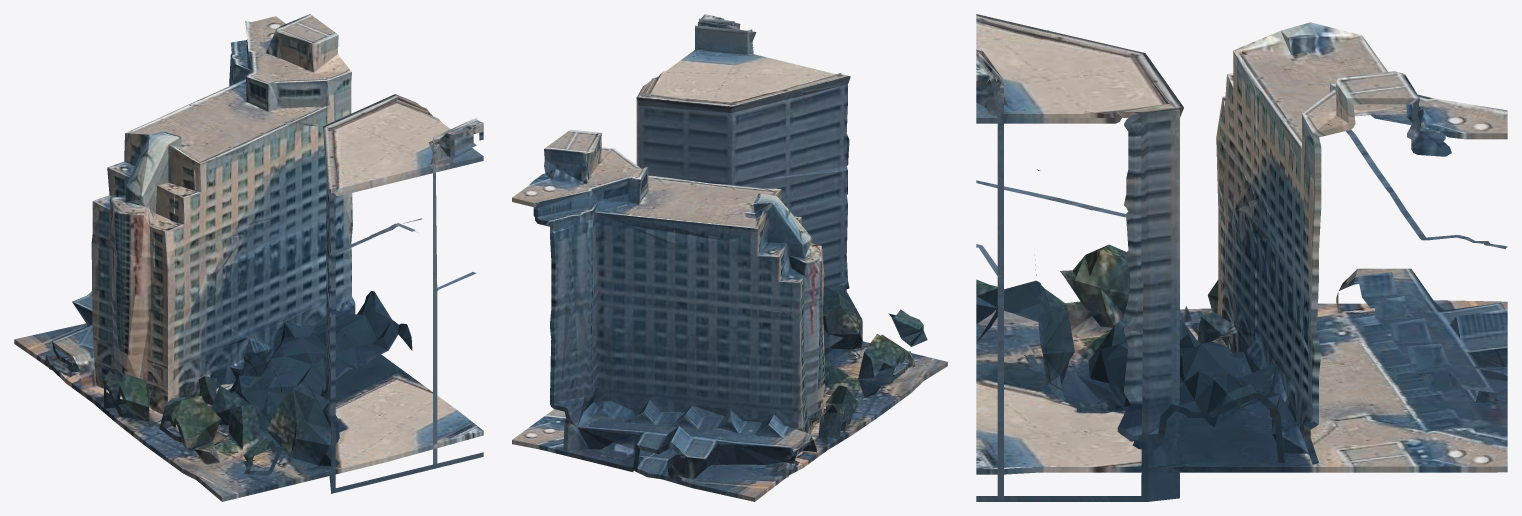
The model's file is chunk_-5_3.glb.
3 renders of one model, left to right at view 1: azimuth 30°, elevation 25°; view 2: azimuth 150°, elevation 25°; view 3: azimuth 270°, elevation 25°, orthographic. The views are drawn at different scales.
Parts seen in each view (by area): view 1: hero-chunk; view 2: hero-chunk; view 3: hero-chunk.
Boxes of the visible parts, left/top/right/bottom form: hero-chunk: left=14, top=14, right=483, bottom=501; hero-chunk: left=512, top=14, right=947, bottom=501; hero-chunk: left=976, top=14, right=1507, bottom=501.
Bounding box in the file's own units: 55.73 × 67.68 × 76.33.
Materials: 2 (2 with a texture image).
